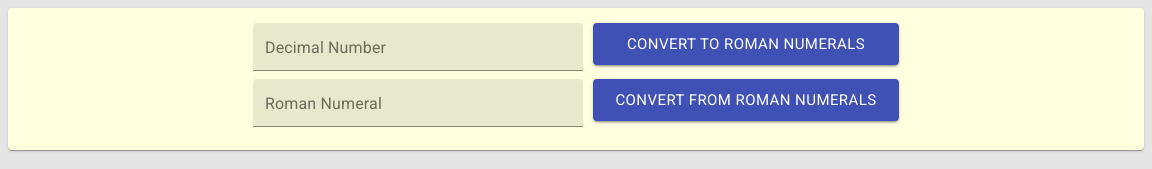
it: integration Tests for calculator component › Inputs a number into the decimal field and convert
In the number field labelled "Decimal Number": (418, 47) x1=253 y1=23 x2=583 y2=71, type "123"
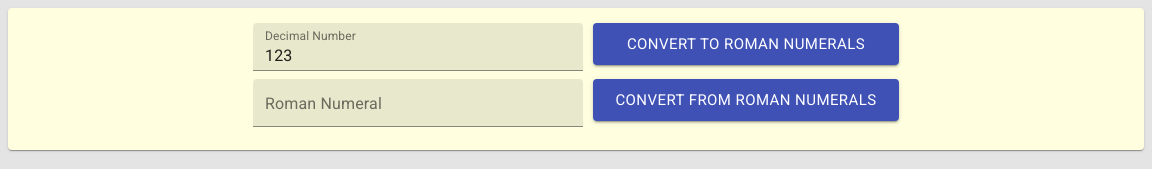
Click the button with test id "decimal-convert-button": (746, 44) x1=593 y1=23 x2=899 y2=65
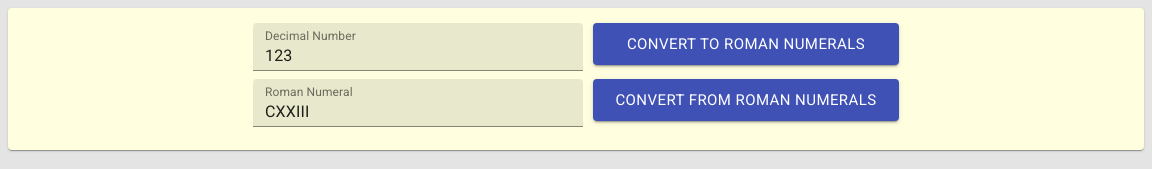
Check: the field labelled "Roman Numeral" holds "CXXIII", box x1=253 y1=79 x2=583 y2=127
